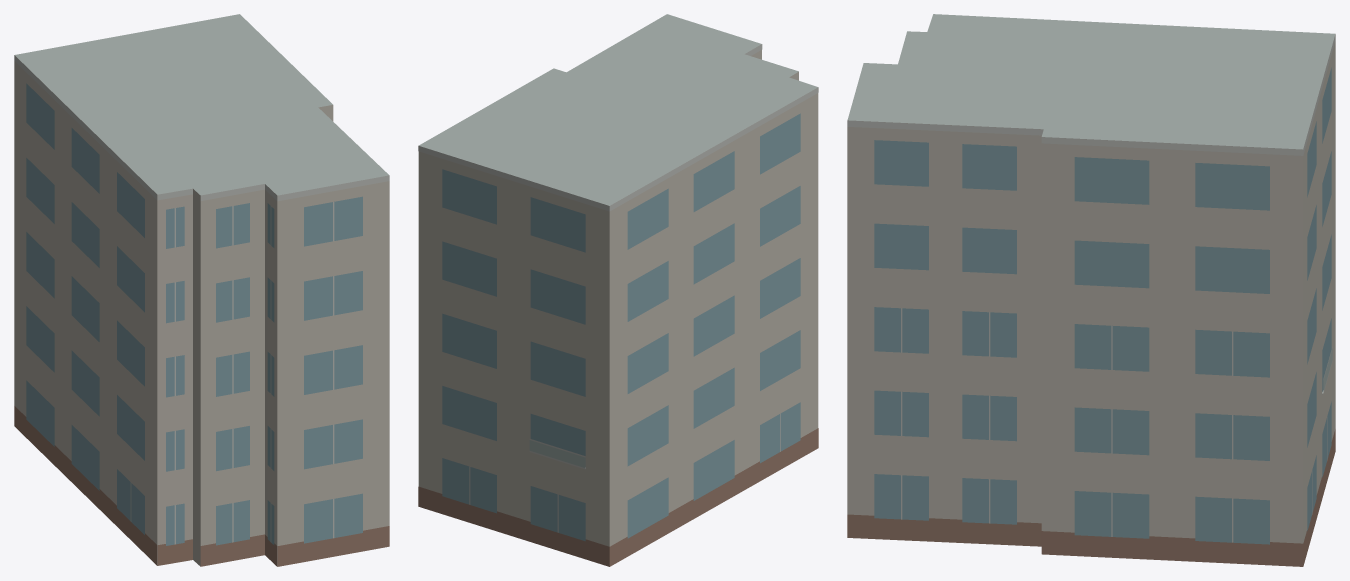
File: survey-upis-32680889.glb
3 renders of one model, left to right at view 1: azimuth 30°, elevation 25°; view 2: azimuth 150°, elevation 25°; view 3: azimuth 270°, elevation 25°, orthographic. The views are drawn at different scales.
Parts seen in each view (by area): view 1: survey-upis-32680889.tmp; view 2: survey-upis-32680889.tmp; view 3: survey-upis-32680889.tmp.
Boxes of the visible parts, x1,y1,x2,y2 form: survey-upis-32680889.tmp: (14, 14, 389, 566); survey-upis-32680889.tmp: (418, 14, 818, 566); survey-upis-32680889.tmp: (847, 14, 1335, 566).
Bounding box in the file's own units: 11.01 × 15.8 × 16.76.
